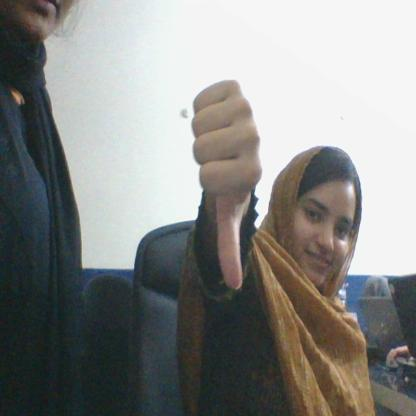thumbs-down: (178, 76, 264, 296)
